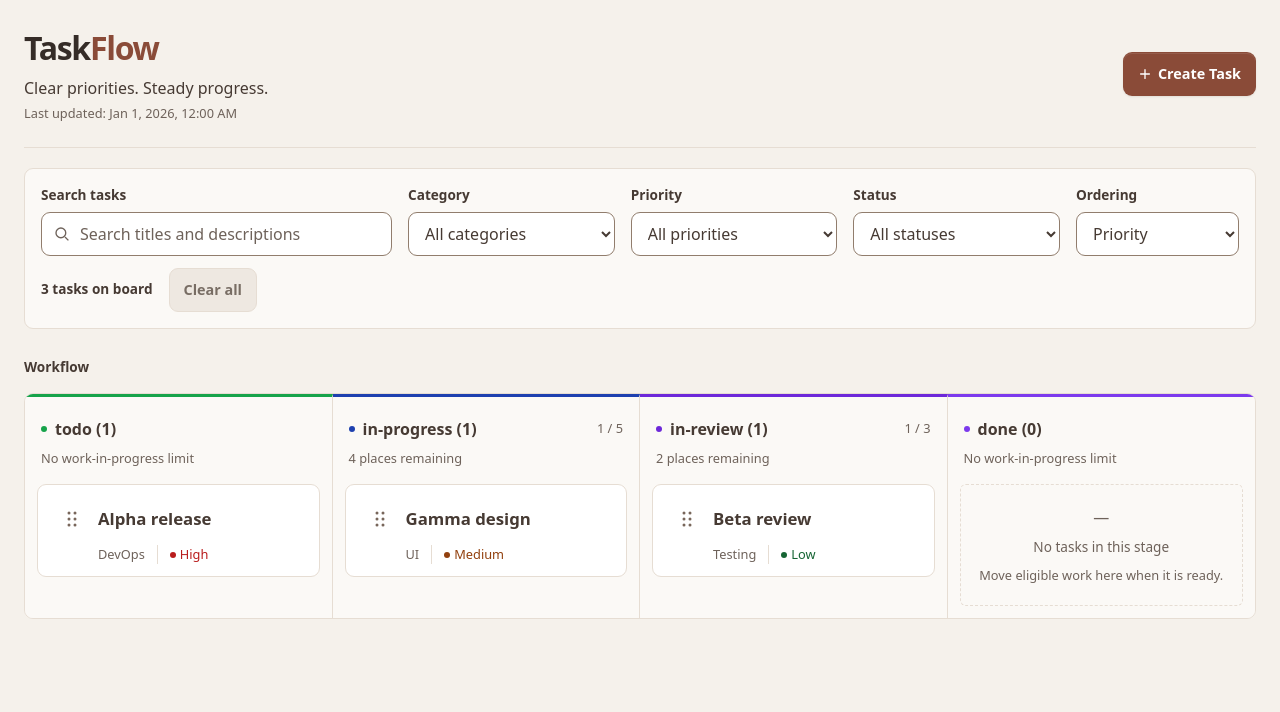
Test: offers inline zero-result recovery while preserving all board tasks
The image size is (1280, 712).
Type "missing" into the search field labelled "Search tasks" at (216, 234), box [41,212,392,256]
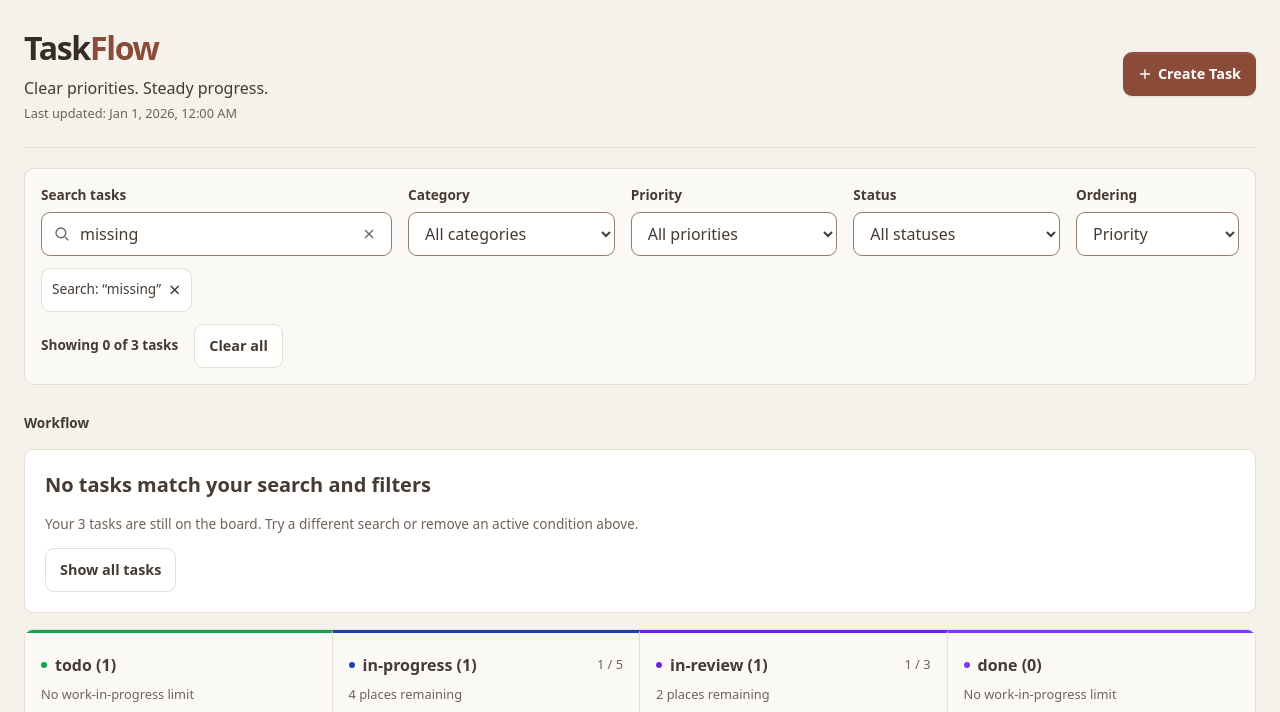
Expected: the text "Showing 0 of 3 tasks" is shown, [41,335,178,356]
Expected: the list named "Active search and filters" shows "missing", [41,268,192,312]
Click the button "Show all tasks" at (111, 570), box [45,548,176,592]
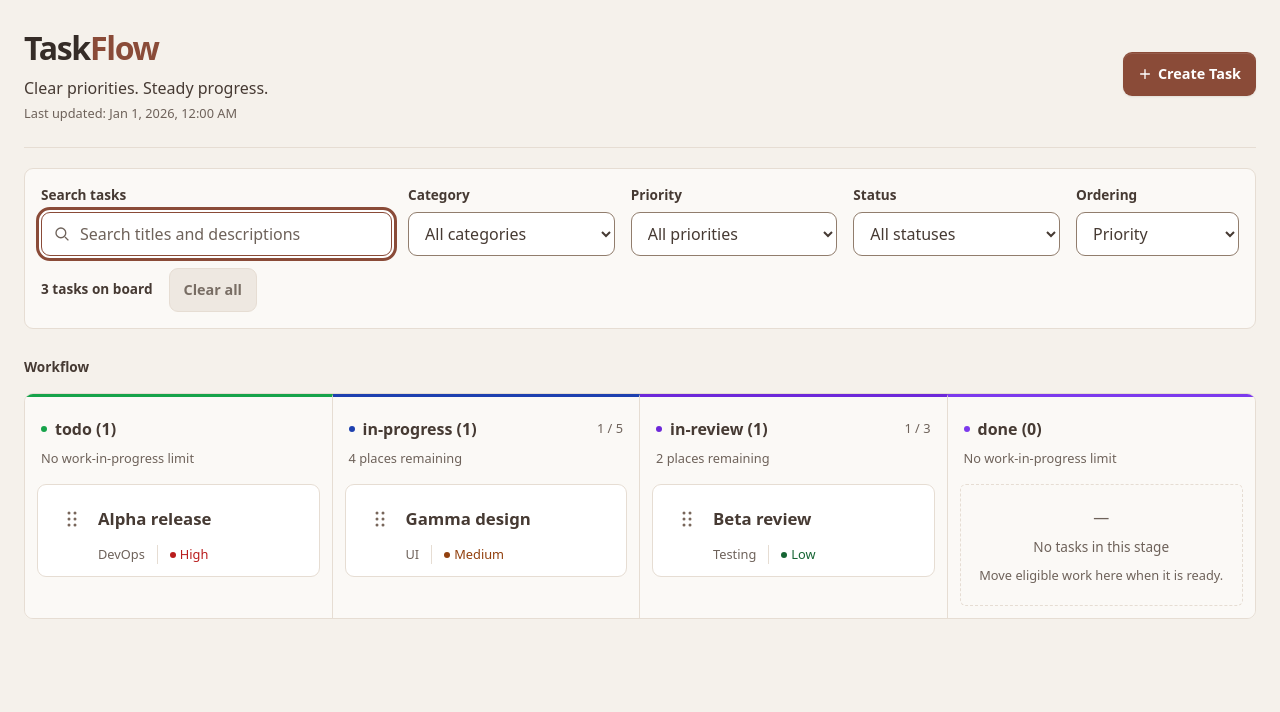
Expected: the text "3 tasks on board" is shown, [41,279,152,300]
Expected: the heading "No tasks match your search and filters" is gone
